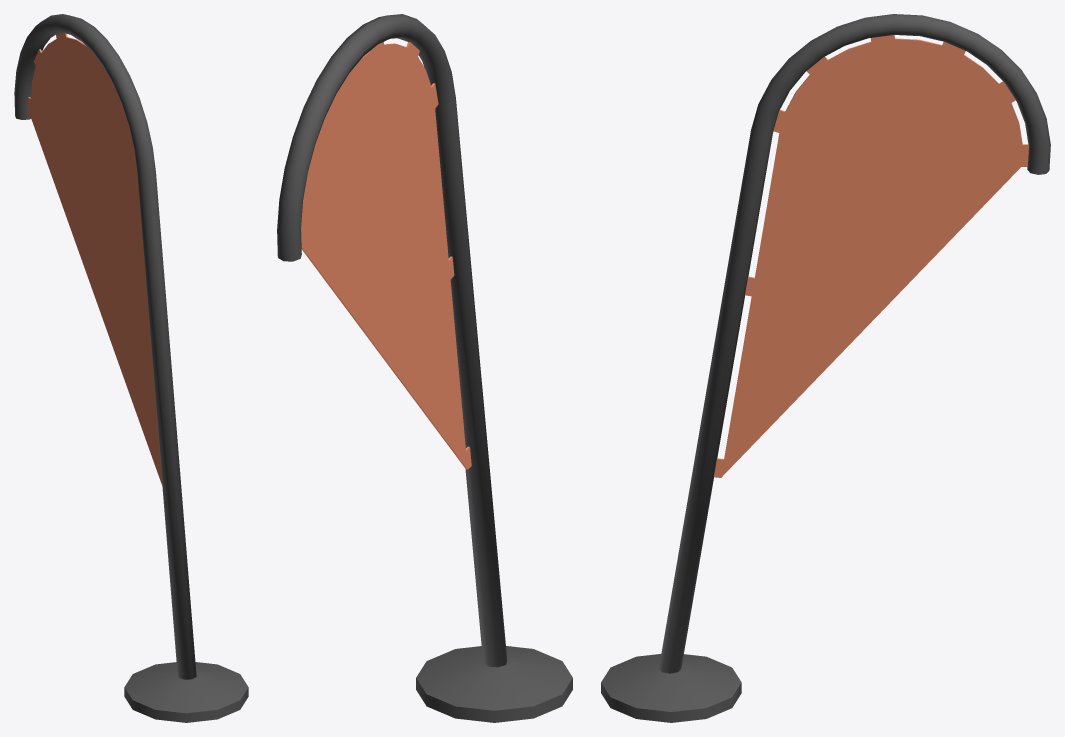
File: Flag-A.fbx
The picture shows the model from 3 angles, left to right: view 1: azimuth 30°, elevation 25°; view 2: azimuth 150°, elevation 25°; view 3: azimuth 270°, elevation 25°; orthographic projection. The views are drawn at different scales.
Visible parts, largest first — view 1: Flag-A_Cloth, Flag-A, Flag-A_Stand; view 2: Flag-A_Cloth, Flag-A, Flag-A_Stand; view 3: Flag-A_Cloth, Flag-A, Flag-A_Stand.
Boxes of the visible parts, x1,y1,x2,y2 form: Flag-A_Cloth: (28, 33, 162, 485); Flag-A: (14, 14, 196, 679); Flag-A_Stand: (124, 662, 248, 722); Flag-A_Cloth: (301, 42, 471, 469); Flag-A: (277, 14, 507, 667); Flag-A_Stand: (416, 646, 572, 722); Flag-A_Cloth: (714, 35, 1028, 477); Flag-A: (659, 14, 1050, 673); Flag-A_Stand: (601, 654, 741, 722).
Bounding box in the file's own units: 37.42 × 199 × 120.
